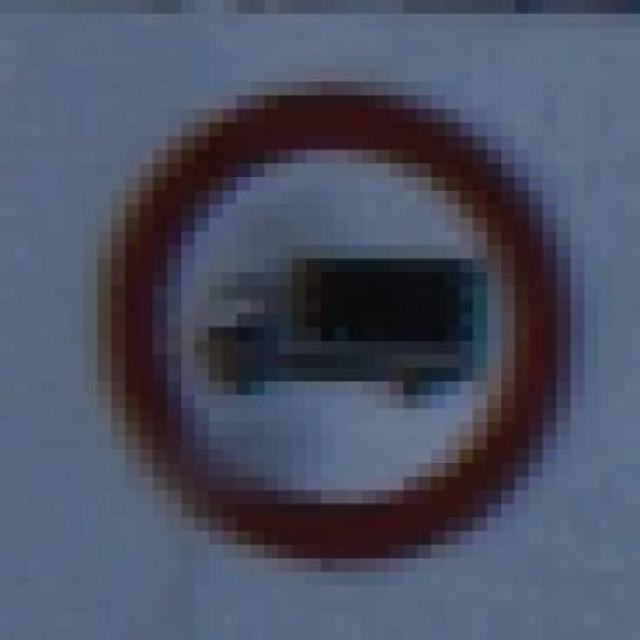Truck traffic is prohibited: (14, 68, 612, 586)
